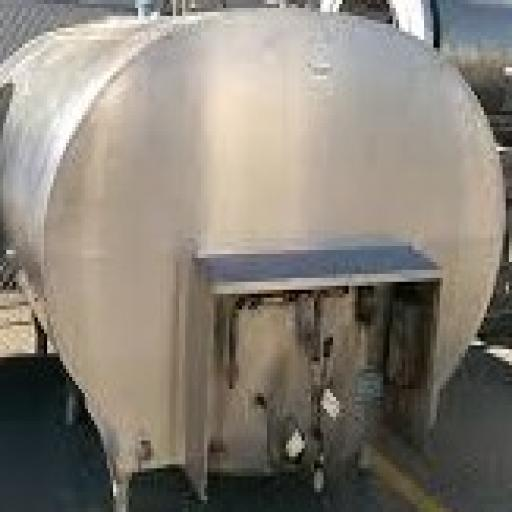silo: (0, 7, 506, 472)
